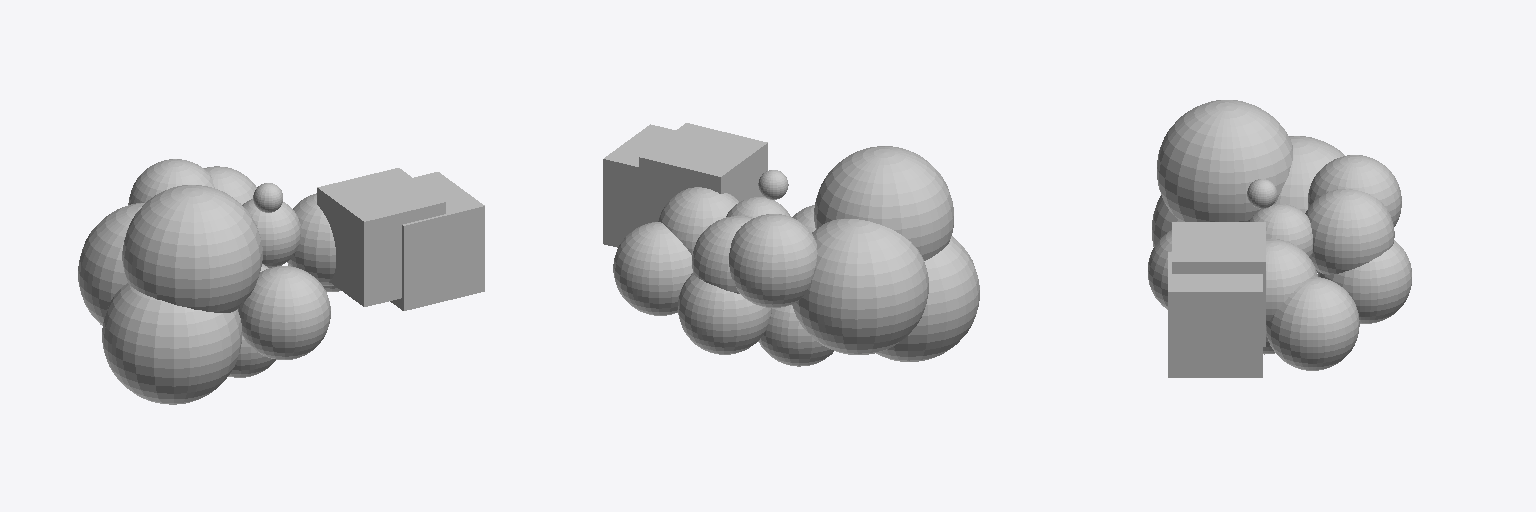
3 views of the same model, side by side, from view 1: azimuth 30°, elevation 25°; view 2: azimuth 150°, elevation 25°; view 3: azimuth 270°, elevation 25° (orthographic).
Parts seen in each view (by area): view 1: Ball_Mercury_SurfSphere.005, Cube_Vacancy_Cube.001, Ball_HB_SurfSphere.004, Ball___SurfSphere, Ball_Carbon_SurfSphere.001, Ball_HN_SurfSphere.002, Ball_Hydrogen_SurfSphere.003; view 2: Ball_Mercury_SurfSphere.005, Ball___SurfSphere, Cube_Vacancy_Cube.001, Ball_HN_SurfSphere.002, Ball_HB_SurfSphere.004, Ball_Carbon_SurfSphere.001, Ball_Hydrogen_SurfSphere.003; view 3: Ball___SurfSphere, Ball_Mercury_SurfSphere.005, Cube_Vacancy_Cube.001, Ball_HN_SurfSphere.002, Ball_Carbon_SurfSphere.001, Ball_HB_SurfSphere.004, Ball_Hydrogen_SurfSphere.003.
Boxes of the visible parts, x1,y1,x2,y2 form: Ball_Mercury_SurfSphere.005: [78, 185, 262, 404]; Cube_Vacancy_Cube.001: [317, 168, 484, 310]; Ball_HB_SurfSphere.004: [228, 266, 330, 377]; Ball___SurfSphere: [204, 166, 340, 291]; Ball_Carbon_SurfSphere.001: [242, 199, 300, 271]; Ball_HN_SurfSphere.002: [128, 159, 214, 204]; Ball_Hydrogen_SurfSphere.003: [253, 183, 282, 212]; Ball_Mercury_SurfSphere.005: [792, 146, 979, 361]; Ball___SurfSphere: [613, 187, 771, 354]; Cube_Vacancy_Cube.001: [603, 123, 767, 247]; Ball_HN_SurfSphere.002: [729, 214, 817, 307]; Ball_HB_SurfSphere.004: [758, 205, 833, 366]; Ball_Carbon_SurfSphere.001: [726, 197, 790, 217]; Ball_Hydrogen_SurfSphere.003: [758, 170, 788, 199]; Ball___SurfSphere: [1266, 189, 1411, 370]; Ball_Mercury_SurfSphere.005: [1152, 100, 1344, 272]; Cube_Vacancy_Cube.001: [1168, 222, 1265, 377]; Ball_HN_SurfSphere.002: [1308, 155, 1401, 226]; Ball_Carbon_SurfSphere.001: [1249, 204, 1312, 258]; Ball_HB_SurfSphere.004: [1148, 230, 1274, 354]; Ball_Hydrogen_SurfSphere.003: [1247, 179, 1276, 208].
Size of the model in its own units: 8.5 by 4.96 by 5.61.